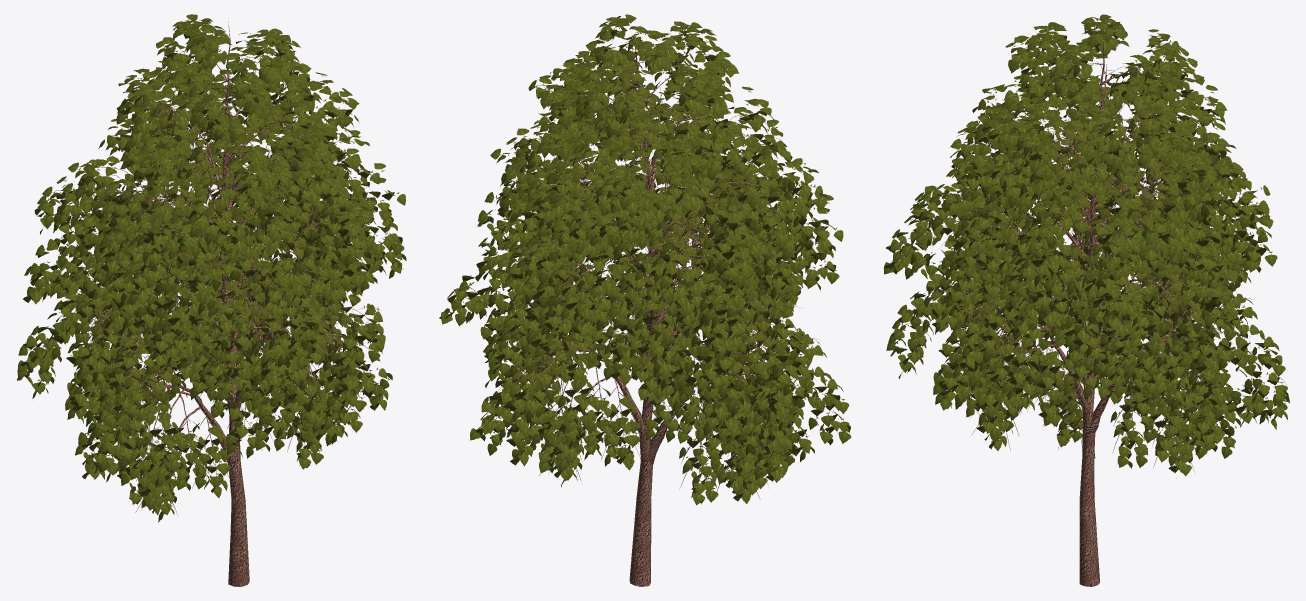
Rendered from tree.fbx.
3 views of the same model, side by side, from view 1: azimuth 30°, elevation 25°; view 2: azimuth 150°, elevation 25°; view 3: azimuth 270°, elevation 25° (orthographic).
Parts seen in each view (by area): view 1: sub01; view 2: sub01; view 3: sub01.
Part boxes in pixels (left/top/right/bottom): sub01: left=17, top=14, right=406, bottom=586; sub01: left=439, top=14, right=851, bottom=586; sub01: left=883, top=14, right=1289, bottom=586.
Bounding box in the file's own units: 507 × 792 × 522.
Materials: 2 (2 with a texture image).
